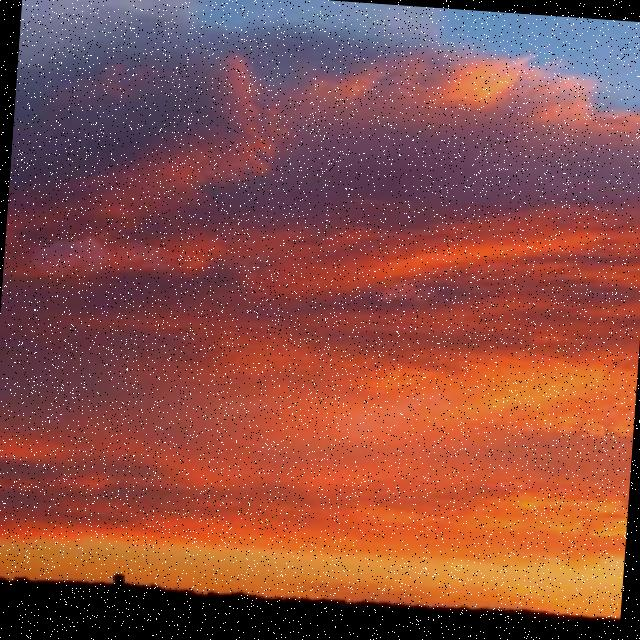As: (1, 3, 640, 542)
